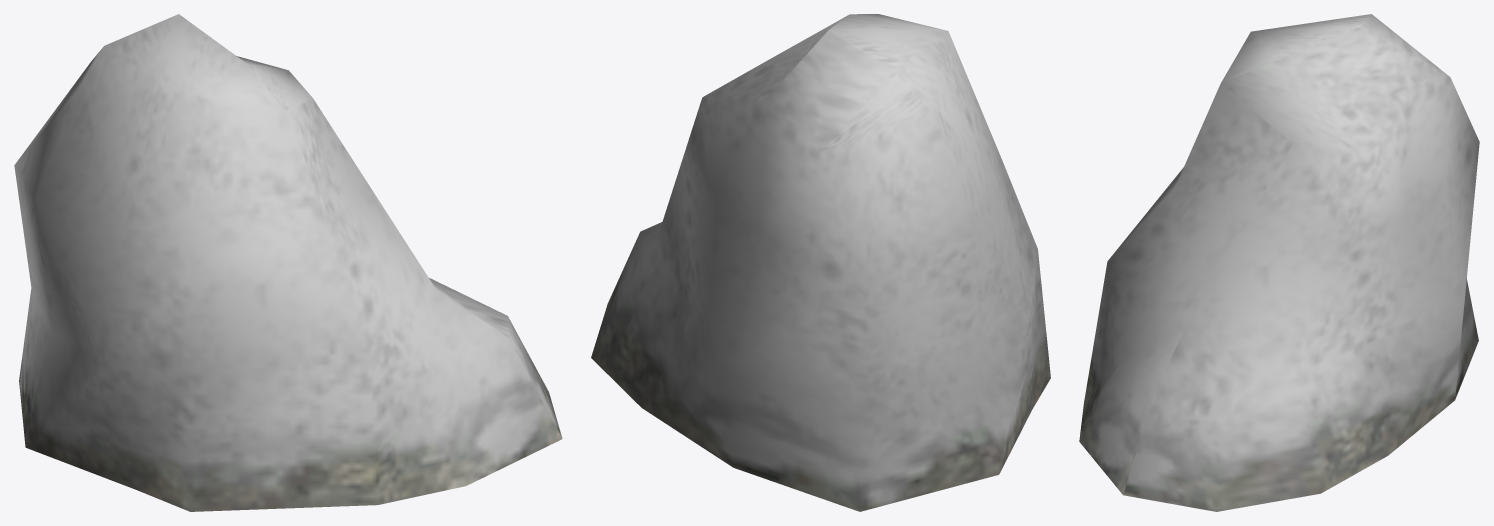
The model's file is general_obj_stone05.fbx.
The picture shows the model from 3 angles, left to right: view 1: azimuth 30°, elevation 25°; view 2: azimuth 150°, elevation 25°; view 3: azimuth 270°, elevation 25°; orthographic projection. The views are drawn at different scales.
Visible parts, largest first — view 1: Sphere01; view 2: Sphere01; view 3: Sphere01.
Part boxes in pixels (x1=…): Sphere01: x1=14, y1=14, x2=562, y2=511; Sphere01: x1=591, y1=14, x2=1050, y2=511; Sphere01: x1=1079, y1=14, x2=1479, y2=511.
Size of the model in its own units: 3.43 by 2.86 by 2.91.
